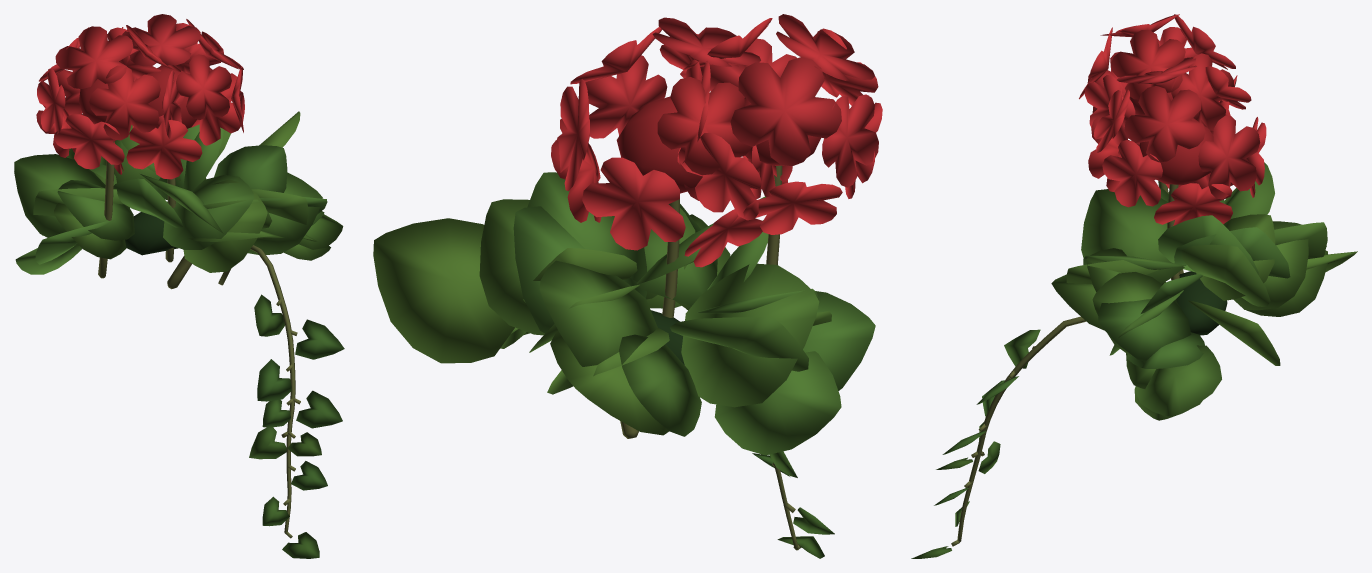
File: box_geranium_red.glb
3 views of the same model, side by side, from view 1: azimuth 30°, elevation 25°; view 2: azimuth 150°, elevation 25°; view 3: azimuth 270°, elevation 25° (orthographic). The views are drawn at different scales.
Visible parts, largest first — view 1: Sammel Pflanze, Sammel Putz, Sammel Blatt; view 2: Sammel Pflanze, Sammel Putz, Sammel Blatt; view 3: Sammel Pflanze, Sammel Putz, Sammel Blatt.
Boxes of the visible parts, left/top/right/bottom form: Sammel Pflanze: left=14, top=14, right=344, bottom=558; Sammel Putz: left=98, top=141, right=300, bottom=538; Sammel Blatt: left=125, top=201, right=178, bottom=255; Sammel Pflanze: left=373, top=14, right=882, bottom=558; Sammel Putz: left=620, top=165, right=801, bottom=550; Sammel Blatt: left=651, top=310, right=684, bottom=364; Sammel Pflanze: left=911, top=14, right=1357, bottom=558; Sammel Putz: left=951, top=181, right=1183, bottom=546; Sammel Blatt: left=1176, top=271, right=1227, bottom=335.
Bounding box in the file's own units: 0.3666 × 0.5308 × 0.4342.
